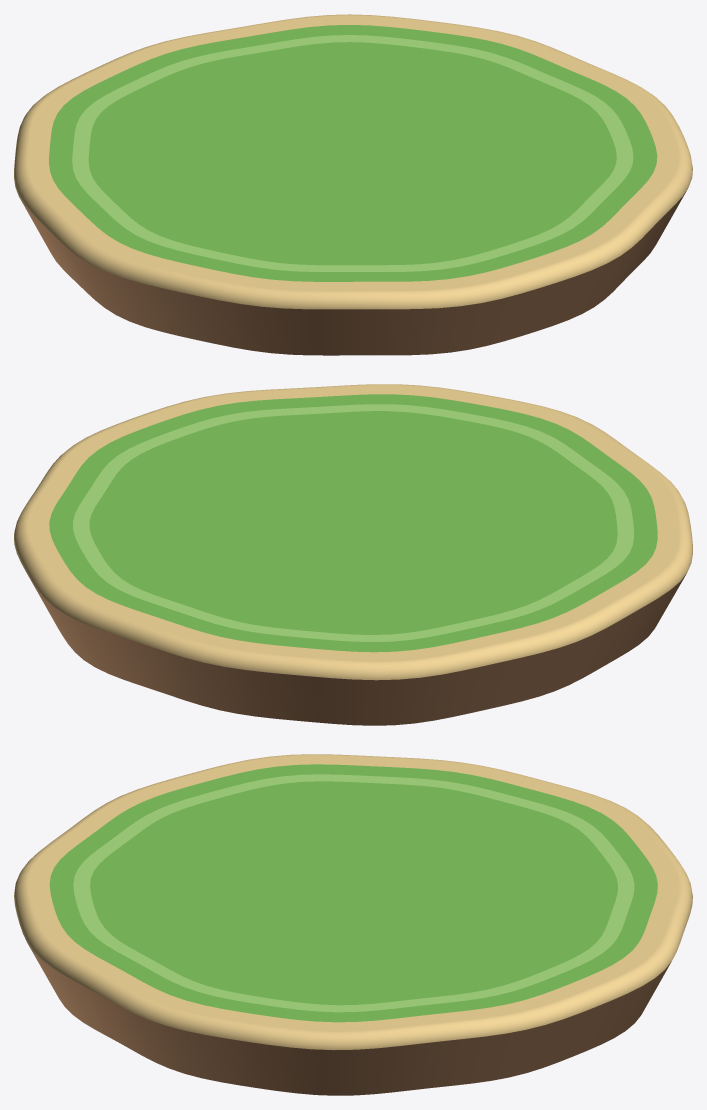
Rendered from island.glb.
3 views of the same model, one above another, from view 1: azimuth 30°, elevation 25°; view 2: azimuth 150°, elevation 25°; view 3: azimuth 270°, elevation 25° (orthographic).
Visible parts, largest first — view 1: island; view 2: island; view 3: island.
Part boxes in pixels (<box>): island: <box>14,14,692,355</box>; island: <box>14,384,692,725</box>; island: <box>14,754,692,1095</box>.
Size of the model in its own units: 14.48 by 1.7 by 14.43.
